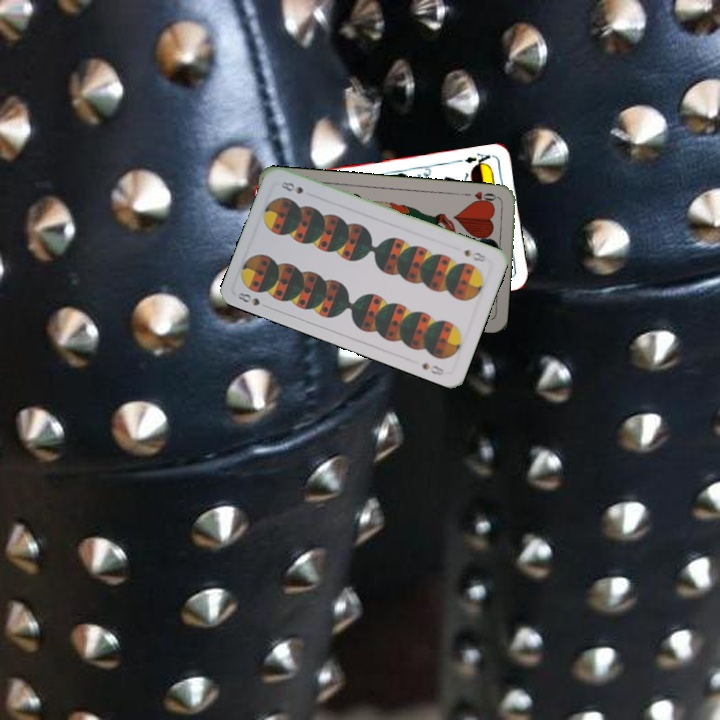EA: (460, 149, 494, 170)
HO: (461, 187, 501, 207)
S8: (234, 288, 272, 311), (460, 245, 489, 265)
